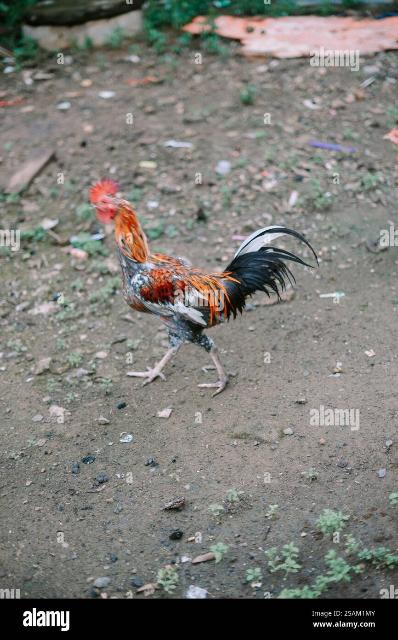Chicken: (78, 174, 323, 399)
